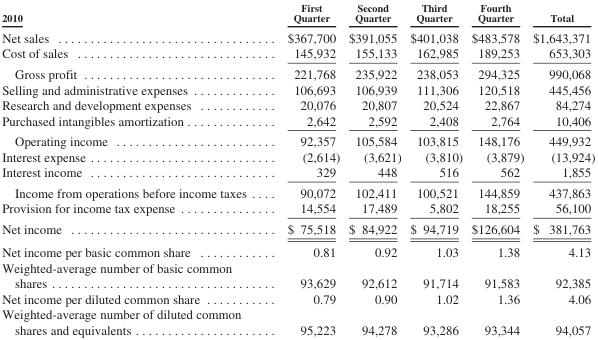table: (1, 1, 594, 336)
table column: (1, 1, 266, 336), (266, 1, 343, 336), (527, 1, 594, 336), (343, 1, 405, 336), (405, 1, 466, 336), (466, 1, 527, 336)
table column header: (1, 1, 594, 26)
table row: (1, 259, 594, 290), (1, 306, 594, 336), (1, 1, 594, 26), (1, 218, 594, 240), (1, 26, 594, 45), (1, 240, 594, 259), (1, 45, 594, 63), (1, 63, 594, 81), (1, 112, 594, 130), (1, 130, 594, 148), (1, 164, 594, 182), (1, 182, 594, 200), (1, 200, 594, 218), (1, 96, 594, 112), (1, 148, 594, 164), (1, 290, 594, 306), (1, 81, 594, 96)
